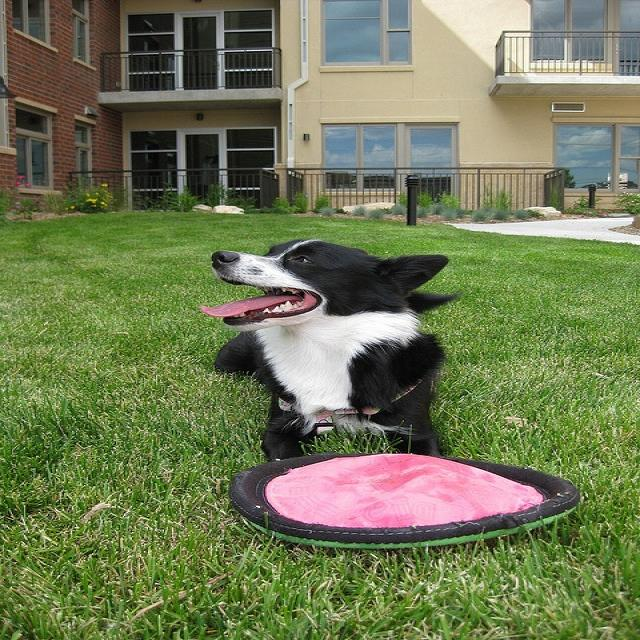dog: (201, 235, 455, 460)
